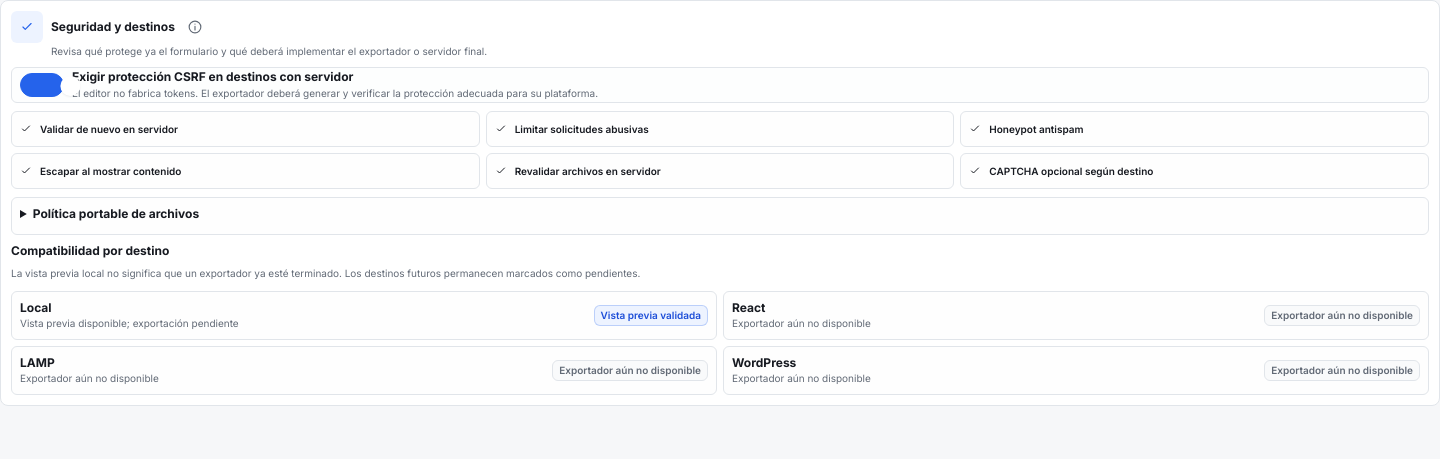
Test: M11.5 FormSecuritySettings › persiste el requisito CSRF usando la mutación canónica del formulario
Click the switch named "Exigir protección CSRF en destinos con servidor": (42, 85) [20,69,64,101]
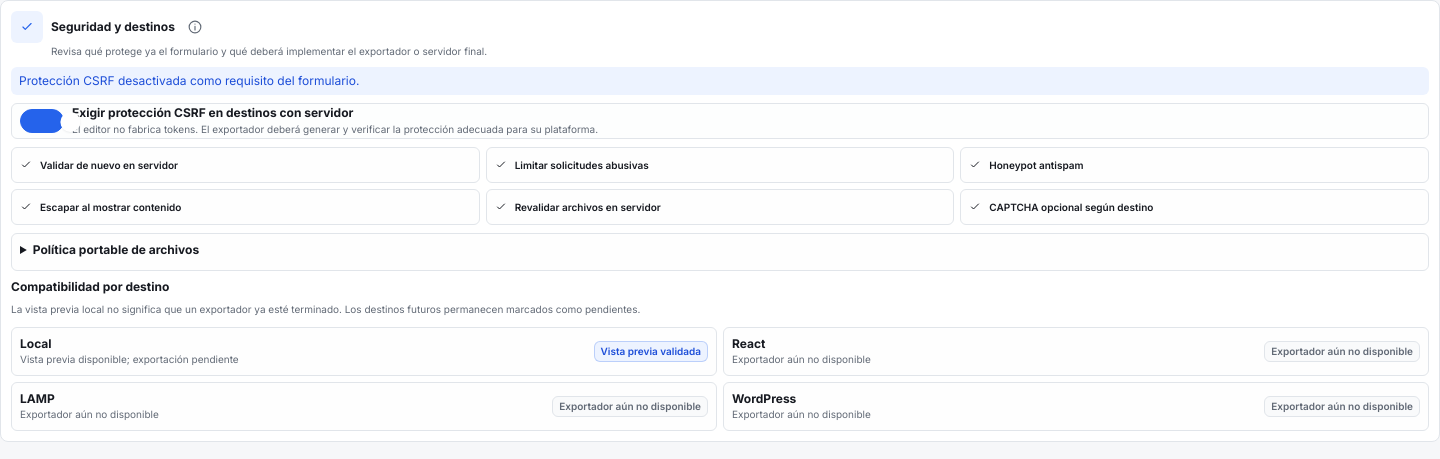
Expected: the message shows "CSRF desactivada", [19,73,359,88]
